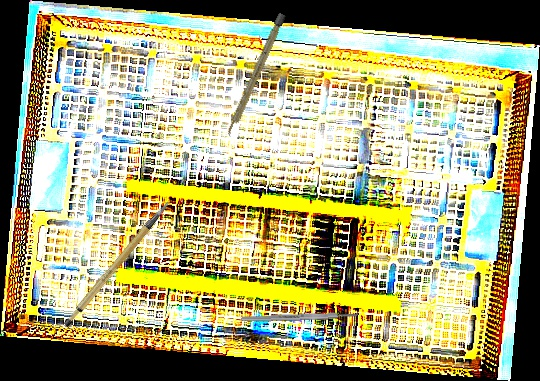Scalpel Handle: (49, 200, 188, 330), (224, 12, 287, 138), (240, 311, 359, 323)
